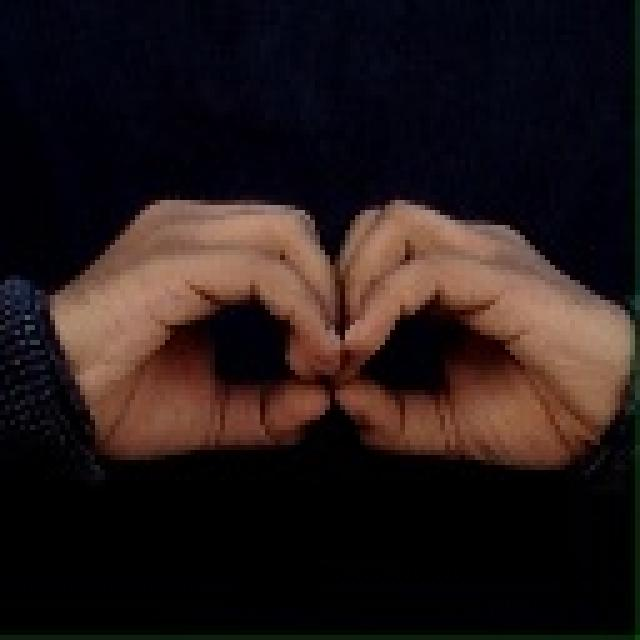Alphabet-B: (52, 183, 620, 480)
